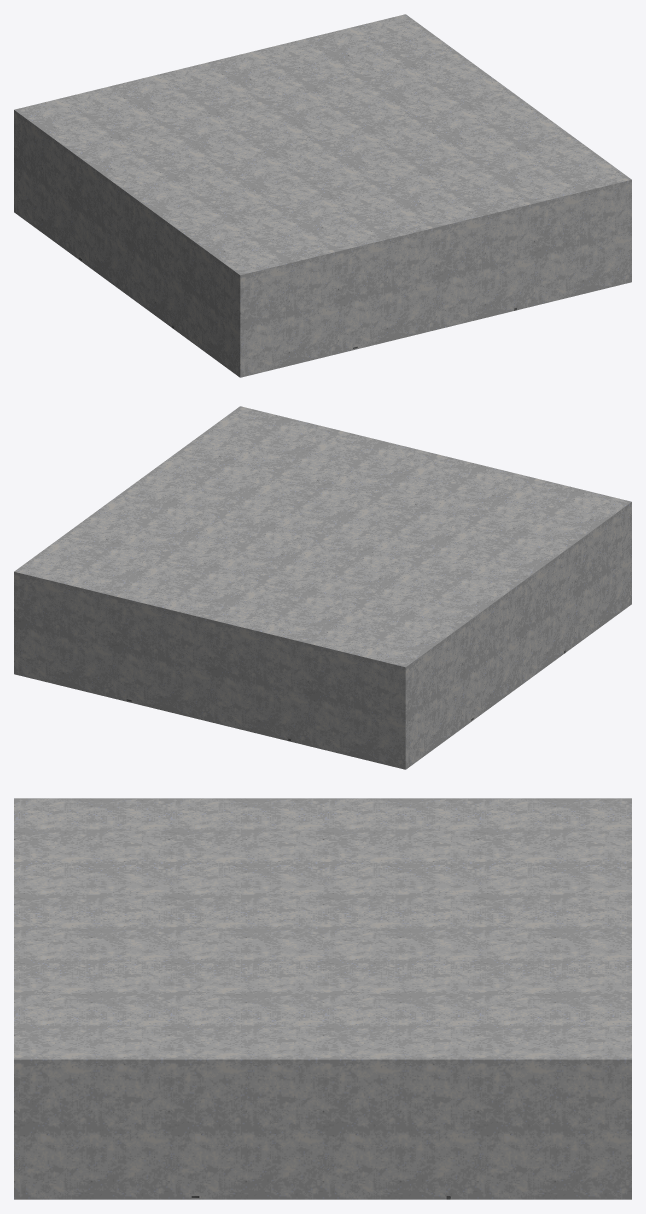
The model's file is parkingCorridor_01.fbx.
The picture shows the model from 3 angles, top to bottom: view 1: azimuth 30°, elevation 25°; view 2: azimuth 150°, elevation 25°; view 3: azimuth 270°, elevation 25°; orthographic projection. The views are drawn at different scales.
Visible parts, largest first — view 1: ground2, wall, wall1, wall3; view 2: ground2, wall, wall2, wall3; view 3: ground2, wall, wall4.
Boxes of the visible parts, left/top/right/bottom form: ground2: left=14, top=14, right=631, bottom=275; wall: left=14, top=110, right=631, bottom=377; wall1: left=353, top=207, right=519, bottom=350; wall3: left=79, top=157, right=175, bottom=329; ground2: left=14, top=406, right=631, bottom=667; wall: left=14, top=502, right=631, bottom=769; wall2: left=126, top=599, right=292, bottom=742; wall3: left=470, top=549, right=566, bottom=721; ground2: left=14, top=798, right=631, bottom=1059; wall: left=14, top=1059, right=631, bottom=1199; wall4: left=191, top=1059, right=454, bottom=1199.
Size of the model in its own units: 16 by 4 by 16.
